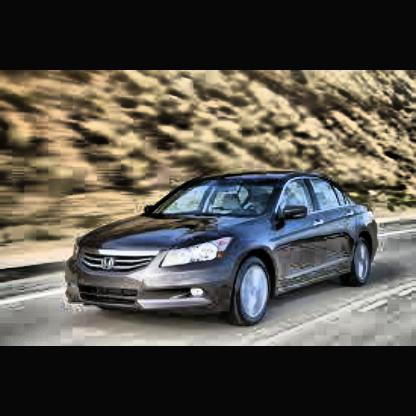Honda Accord Sedan 2012: (68, 172, 379, 329)
